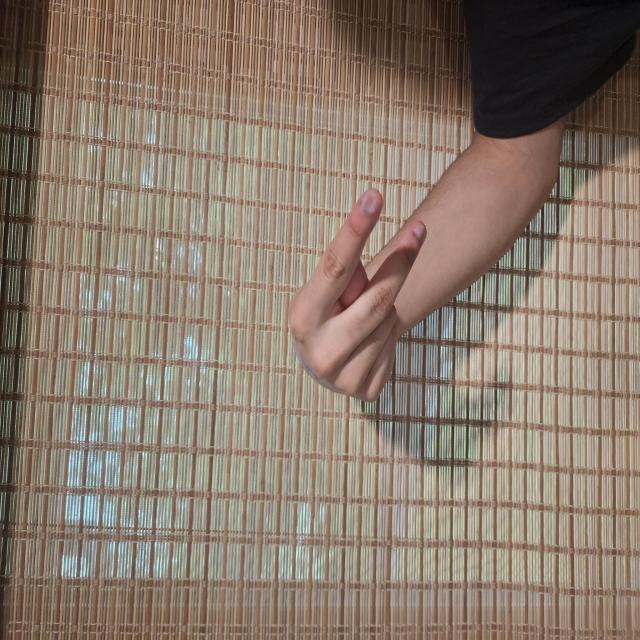P: (174, 376, 345, 578)
